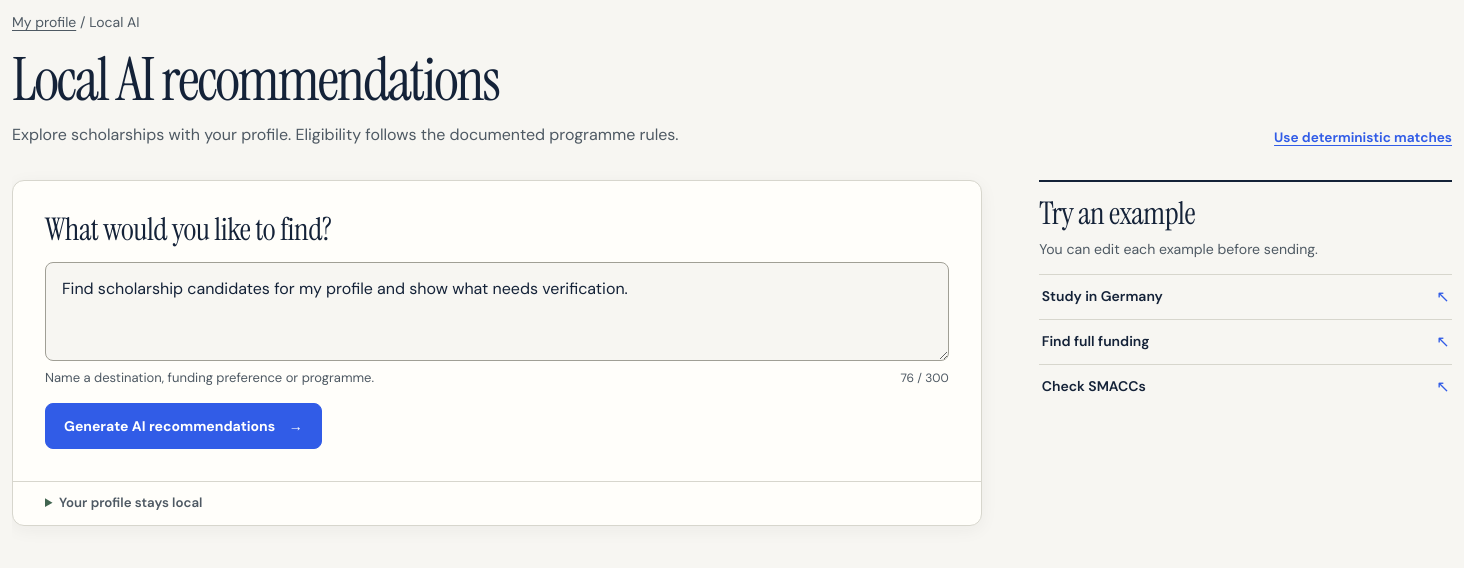
Scenario: local agent recommendations › validates a blank request before contacting the model
Step 1. Clear the text box labelled "What would you like to find?" → [497, 312], box [45,262,949,361]
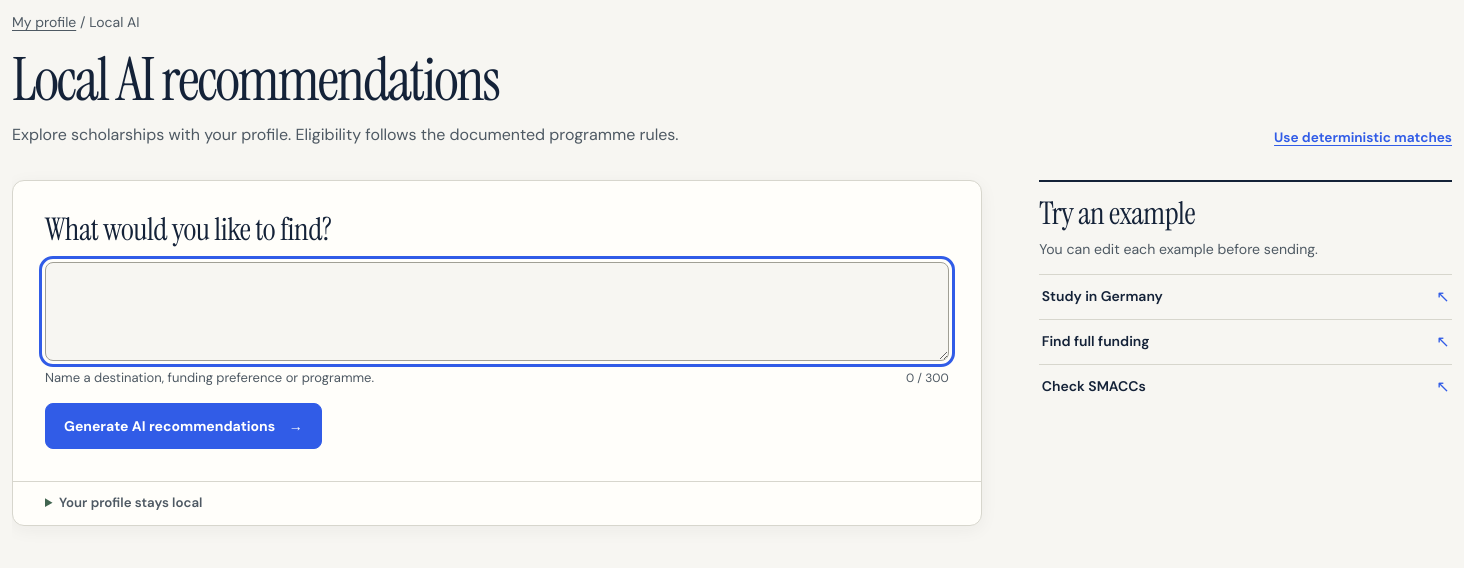
Step 2. Click the button "Generate AI recommendations →" → [183, 426], box [45,403,322,449]
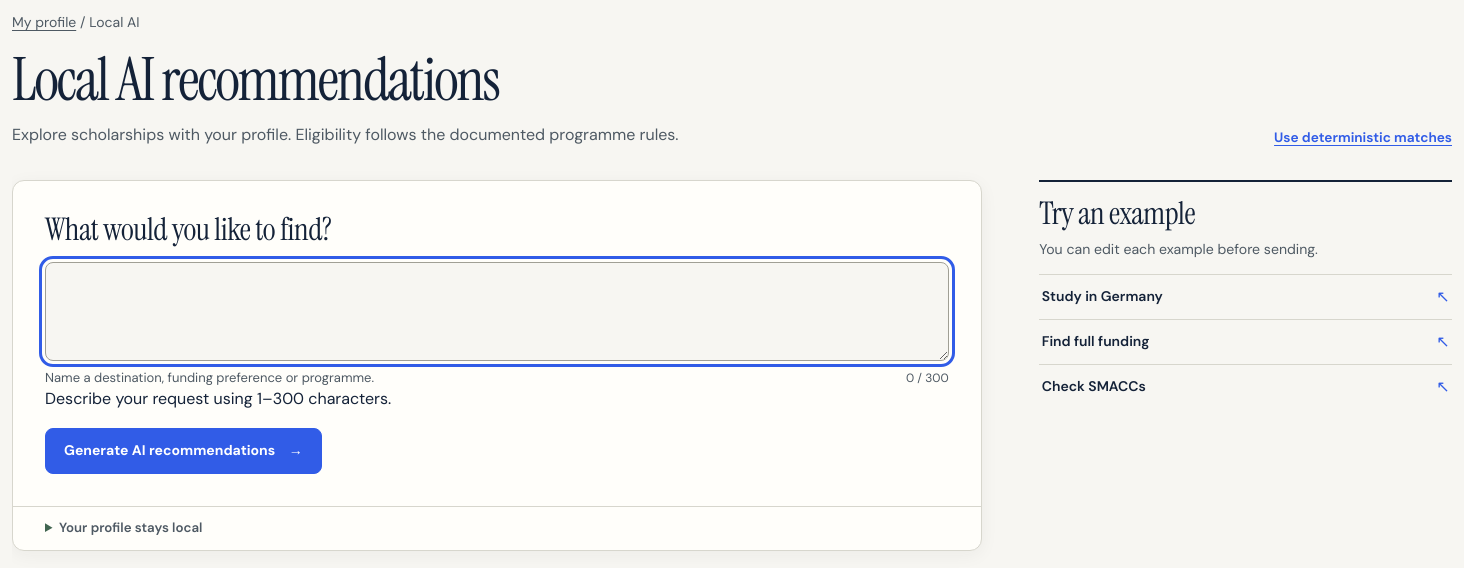
expect the message shows "1–300 characters": met, box [45,388,391,409]
